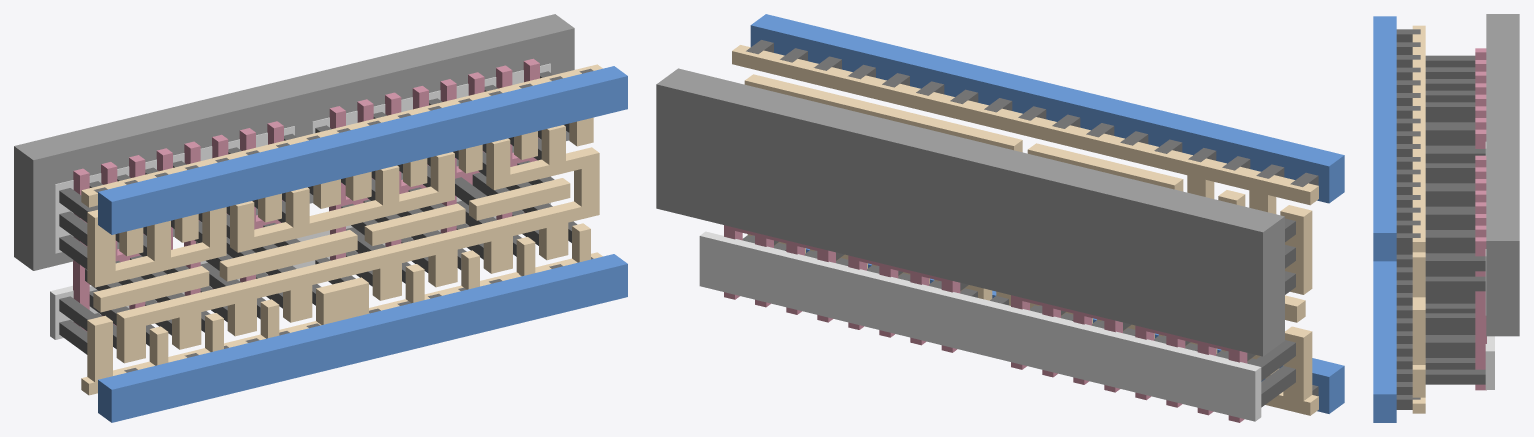
The model's file is sky130_fd_sc_hd__nor4_4.gds.gltf.
3 views of the same model, side by side, from view 1: azimuth 30°, elevation 25°; view 2: azimuth 150°, elevation 25°; view 3: azimuth 270°, elevation 25° (orthographic). The views are drawn at different scales.
Visible parts, largest first — view 1: sky130_fd_sc_hd__nor4_4_li1, sky130_fd_sc_hd__nor4_4_met1, sky130_fd_sc_hd__nor4_4_nwell, sky130_fd_sc_hd__nor4_4_licon, sky130_fd_sc_hd__nor4_4_poly, sky130_fd_sc_hd__nor4_4_diff, sky130_fd_sc_hd__nor4_4_mcon; view 2: sky130_fd_sc_hd__nor4_4_nwell, sky130_fd_sc_hd__nor4_4_diff, sky130_fd_sc_hd__nor4_4_li1, sky130_fd_sc_hd__nor4_4_met1, sky130_fd_sc_hd__nor4_4_poly, sky130_fd_sc_hd__nor4_4_mcon, sky130_fd_sc_hd__nor4_4_licon; view 3: sky130_fd_sc_hd__nor4_4_licon, sky130_fd_sc_hd__nor4_4_nwell, sky130_fd_sc_hd__nor4_4_met1, sky130_fd_sc_hd__nor4_4_mcon, sky130_fd_sc_hd__nor4_4_li1, sky130_fd_sc_hd__nor4_4_poly, sky130_fd_sc_hd__nor4_4_diff.
Part boxes in pixels (x1,y1,x2,y2): sky130_fd_sc_hd__nor4_4_li1: (81, 64, 602, 395); sky130_fd_sc_hd__nor4_4_met1: (98, 66, 627, 422); sky130_fd_sc_hd__nor4_4_nwell: (14, 14, 574, 270); sky130_fd_sc_hd__nor4_4_licon: (59, 71, 577, 354); sky130_fd_sc_hd__nor4_4_poly: (73, 58, 539, 331); sky130_fd_sc_hd__nor4_4_diff: (50, 63, 550, 339); sky130_fd_sc_hd__nor4_4_mcon: (94, 68, 593, 372); sky130_fd_sc_hd__nor4_4_nwell: (656, 68, 1284, 356); sky130_fd_sc_hd__nor4_4_diff: (699, 231, 1261, 421); sky130_fd_sc_hd__nor4_4_li1: (732, 45, 1318, 415); sky130_fd_sc_hd__nor4_4_met1: (750, 14, 1344, 413); sky130_fd_sc_hd__nor4_4_poly: (724, 225, 1247, 422); sky130_fd_sc_hd__nor4_4_mcon: (746, 40, 1318, 396); sky130_fd_sc_hd__nor4_4_licon: (742, 218, 1295, 407); sky130_fd_sc_hd__nor4_4_licon: (1425, 55, 1485, 384); sky130_fd_sc_hd__nor4_4_nwell: (1486, 14, 1519, 336); sky130_fd_sc_hd__nor4_4_met1: (1373, 16, 1396, 422); sky130_fd_sc_hd__nor4_4_mcon: (1396, 29, 1420, 409); sky130_fd_sc_hd__nor4_4_li1: (1412, 25, 1425, 413); sky130_fd_sc_hd__nor4_4_poly: (1475, 48, 1486, 390); sky130_fd_sc_hd__nor4_4_diff: (1485, 142, 1494, 389).
Bounding box in the file's own units: 8.2 × 3.2 × 2.24.
